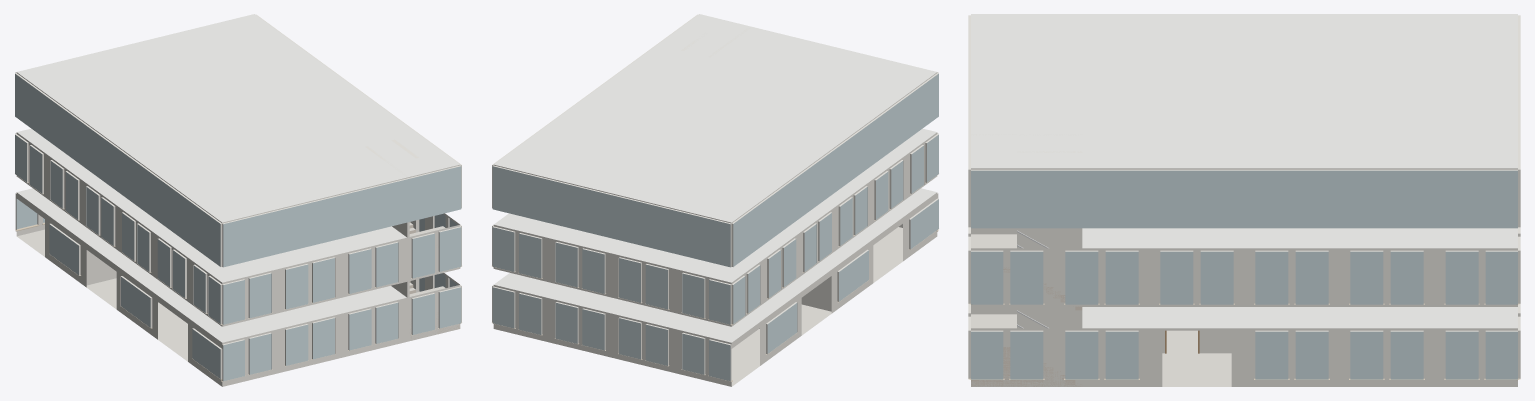
The model's file is Shopping_Medical_3_Interior.fbx.
3 views of the same model, side by side, from view 1: azimuth 30°, elevation 25°; view 2: azimuth 150°, elevation 25°; view 3: azimuth 270°, elevation 25° (orthographic). The views are drawn at different scales.
Visible parts, largest first — view 1: Shopping_Medical_3_Interior; view 2: Shopping_Medical_3_Interior; view 3: Shopping_Medical_3_Interior.
Boxes of the visible parts, left/top/right/bottom form: Shopping_Medical_3_Interior: left=15, top=14, right=461, bottom=386; Shopping_Medical_3_Interior: left=492, top=14, right=938, bottom=386; Shopping_Medical_3_Interior: left=968, top=14, right=1520, bottom=386.
Size of the model in its own units: 14.3 by 9.3 by 21.3.
